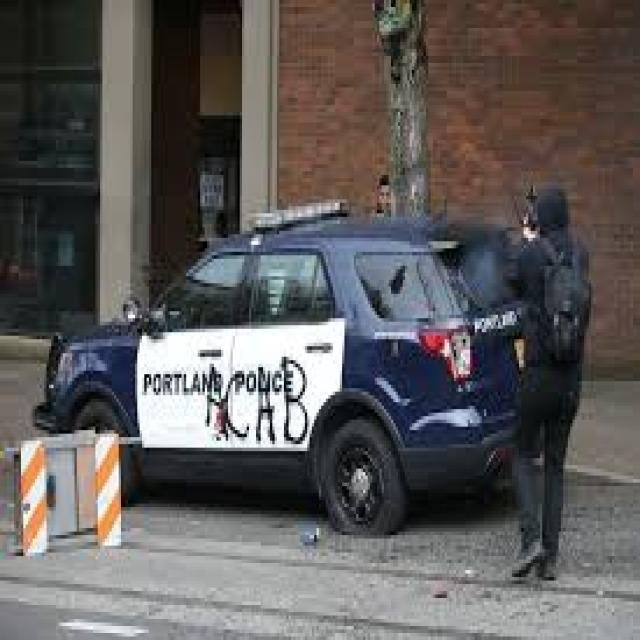cop: (37, 202, 522, 538)
